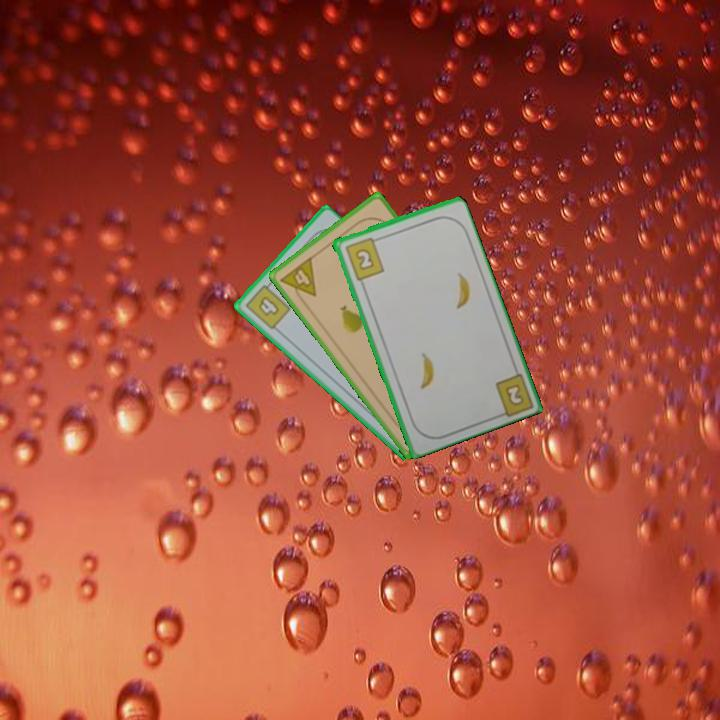2b: (341, 233, 387, 283), (501, 380, 527, 409)
4b: (242, 277, 293, 333)
4p: (277, 253, 319, 307)
